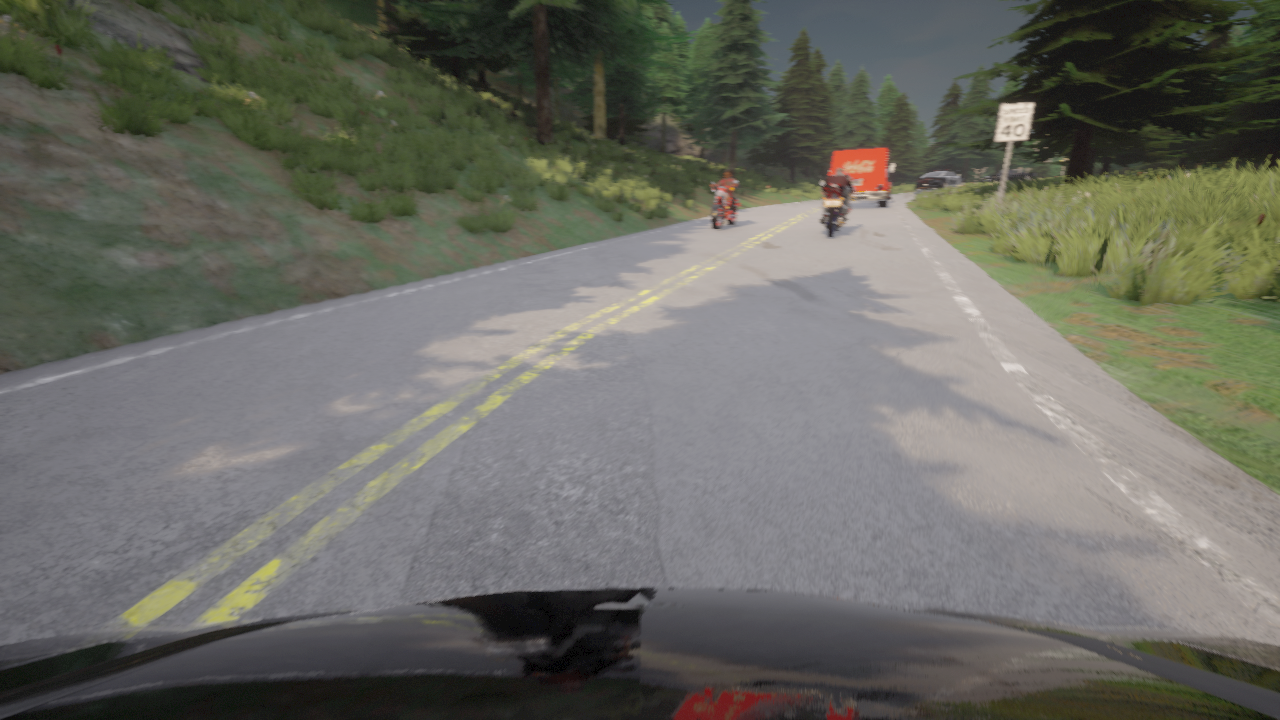cyclist: (0, 588, 1279, 719), (829, 147, 893, 207), (819, 180, 858, 237), (710, 181, 739, 229), (915, 168, 964, 193)
